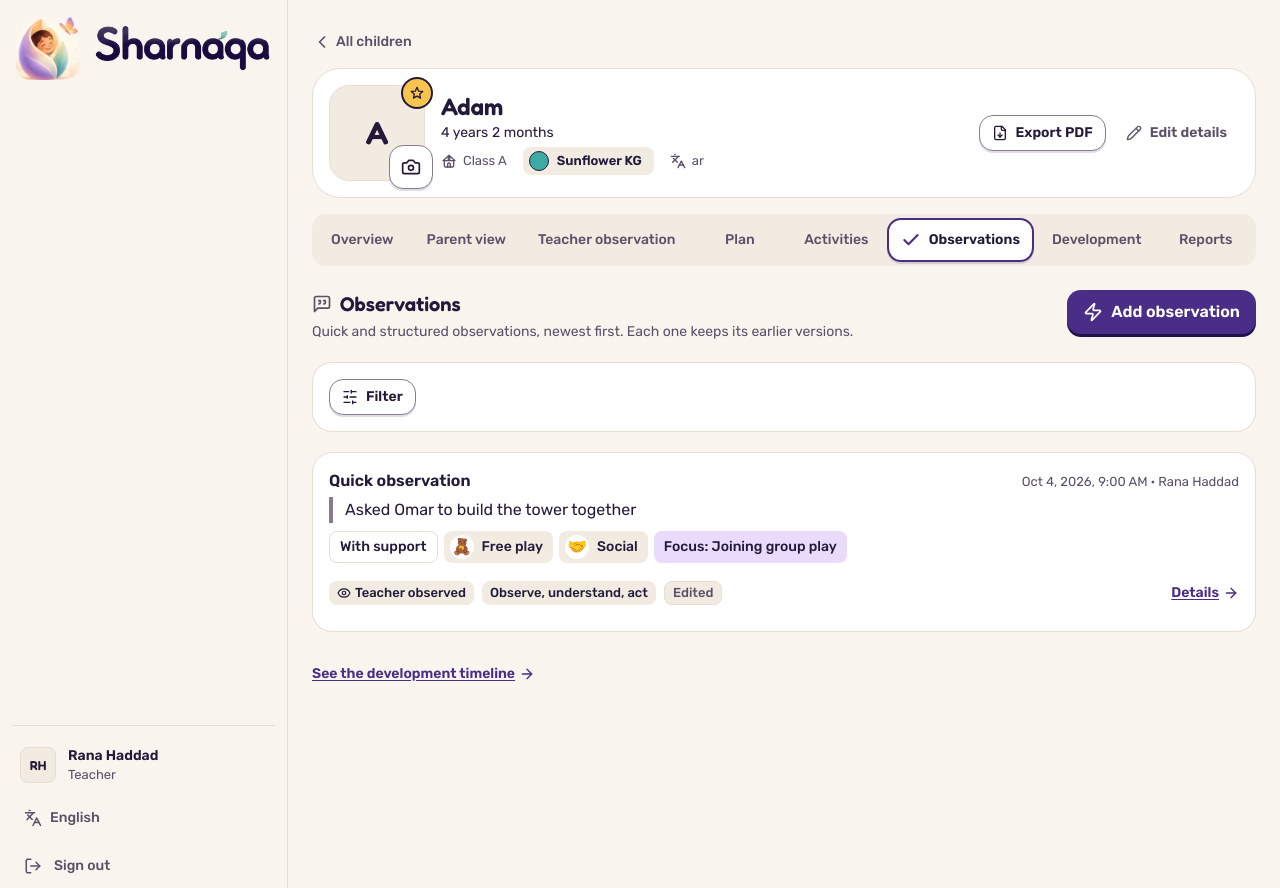
Test case: Observation detail › shows the details and every version, the first one kept as it was
The image size is (1280, 888).
Click the link "Details". click: point(1205, 592)
box: [1171,584,1239,601]
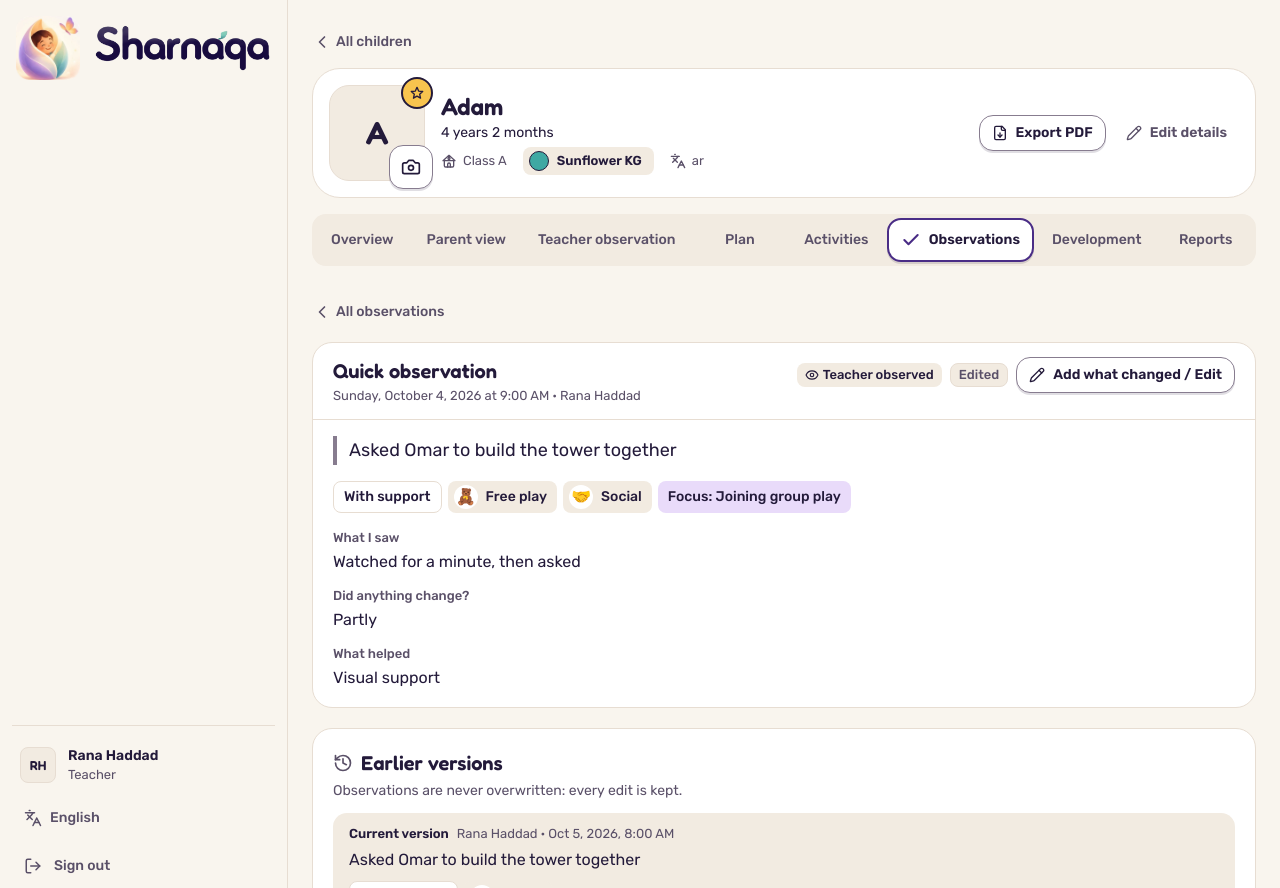
Expected: the text "Watched for a minute, then asked" is shown, [333,552,581,571]
Expected: the text "Partly" is shown, [333,610,377,629]
Expected: the text "Visual support" is shown, [333,668,440,687]
